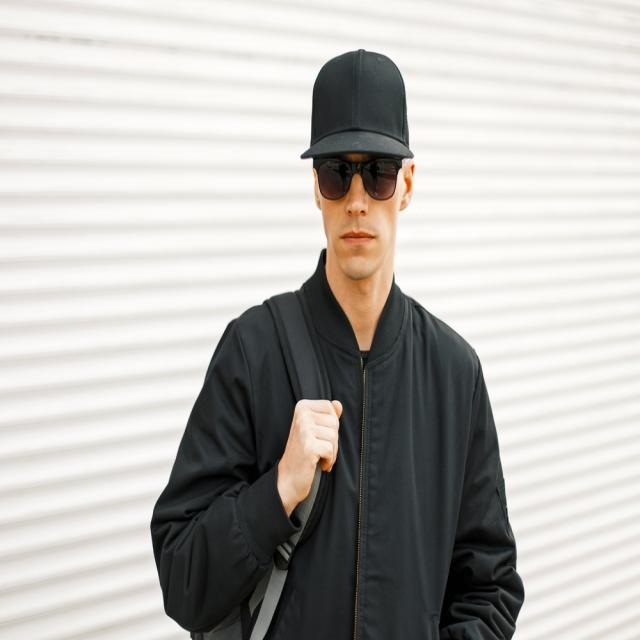3_gorra: (300, 47, 414, 163)
